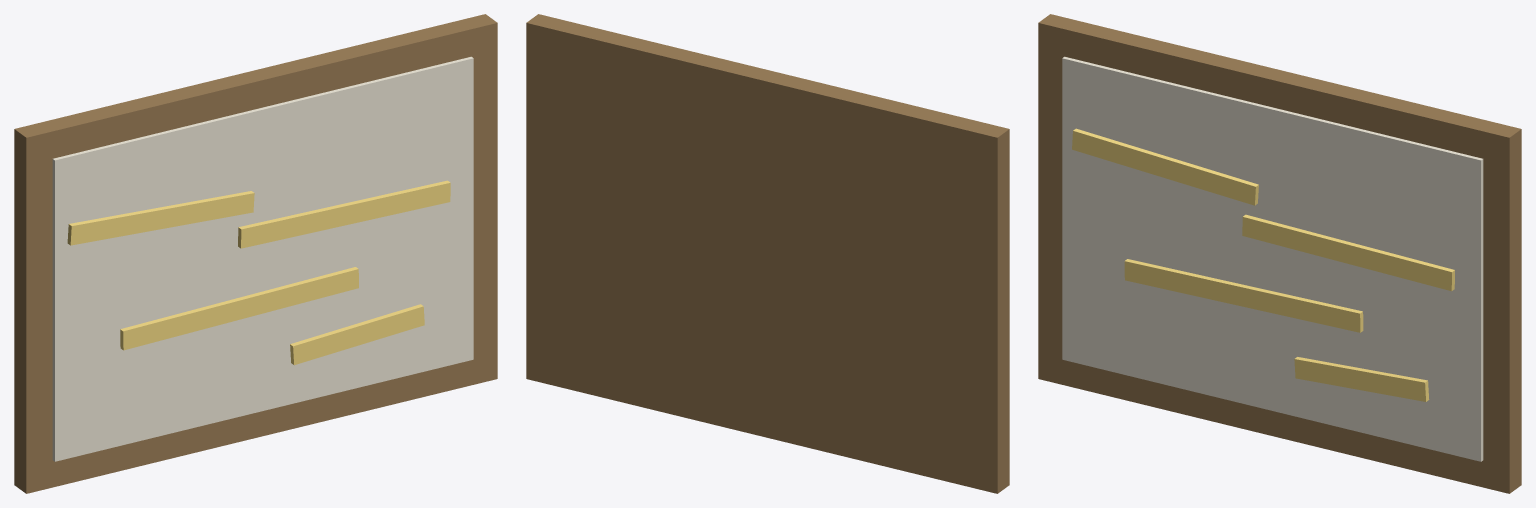
The model's file is calligraphy.glb.
3 views of the same model, side by side, from view 1: azimuth 30°, elevation 25°; view 2: azimuth 150°, elevation 25°; view 3: azimuth 330°, elevation 25° (orthographic).
Size of the model in its own units: 1.8 by 1.3 by 0.115.
